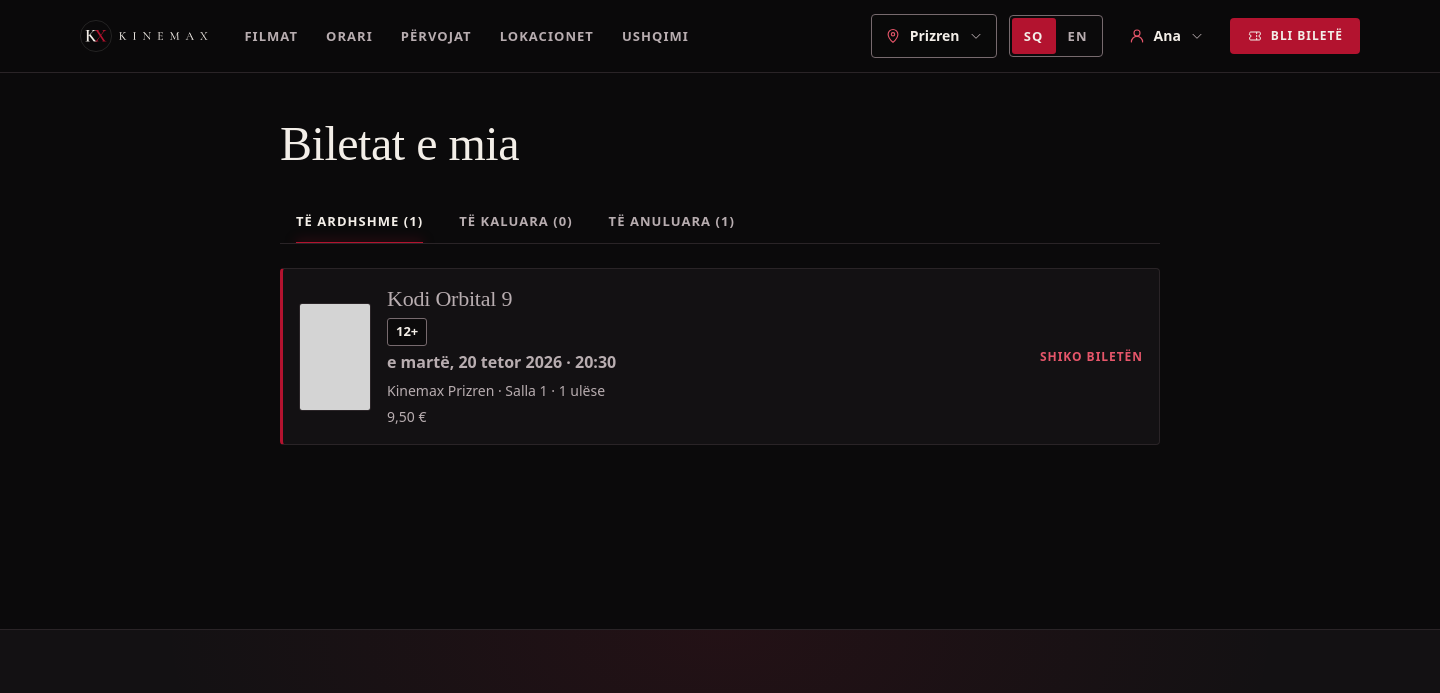
Test: Biletat e mia › lists the tickets by tab; each card opens its ticket
This screenshot has width=1440, height=693.
Expected: the heading "Biletat e mia" is shown, [280,117,519,170]
Expected: the text "e martë, 20 tetor 2026 · 20:30" is shown, [387,350,616,376]
Click the tab "Të kaluara (0)" at {"x": 516, "y": 221}, box [443,199,589,243]
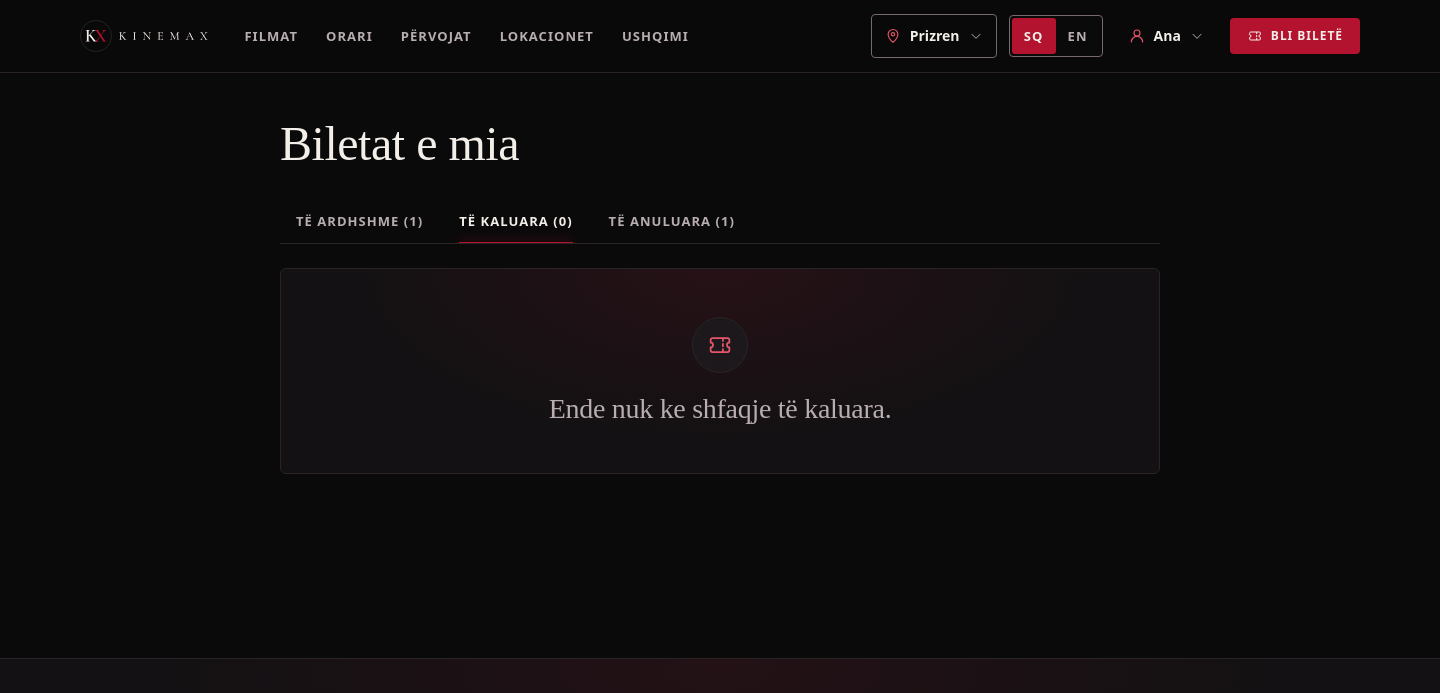
Result: the heading "Ende nuk ke shfaqje të kaluara." is shown at [549,393,891,425]
Click the tab "Të anuluara (1)" at {"x": 672, "y": 221}, box [593,199,751,243]
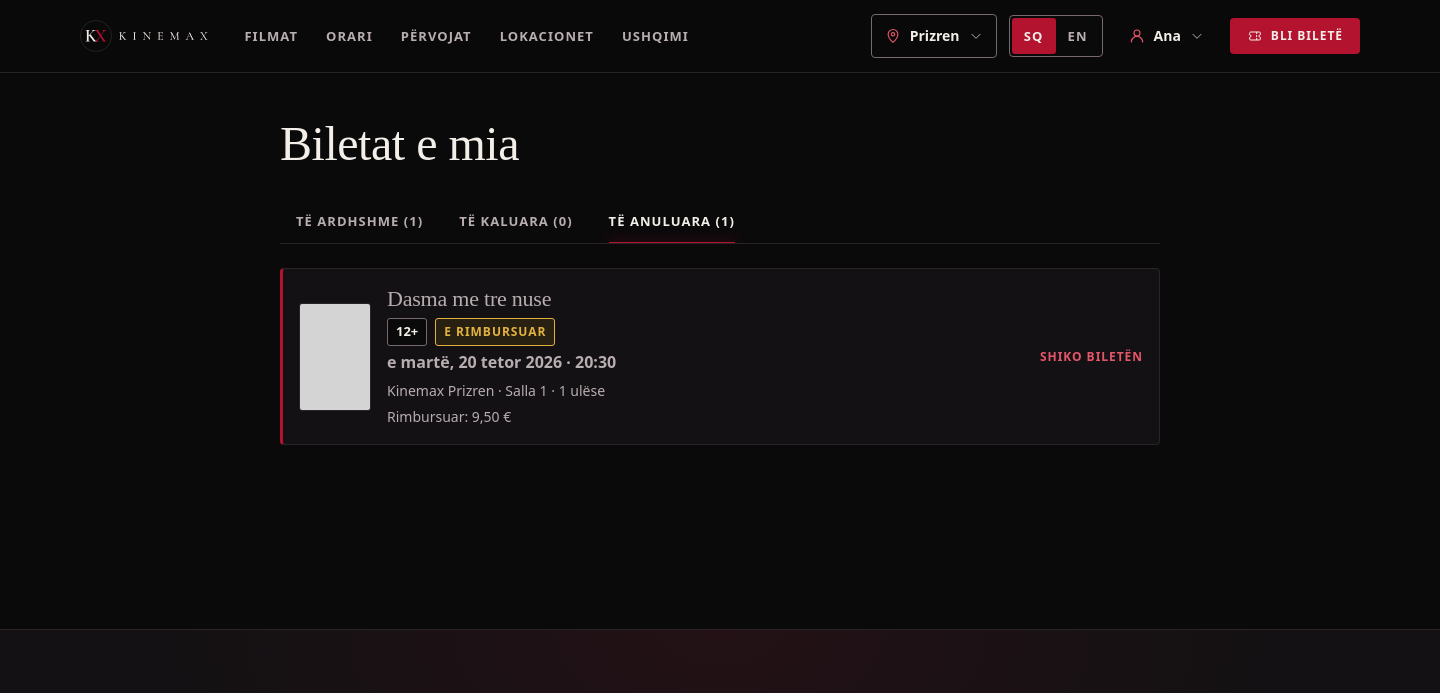
Result: the text "E rimbursuar" is shown at [435,318,555,346]
Result: the text "Rimbursuar: 9,50 €" is shown at [387,406,511,428]
